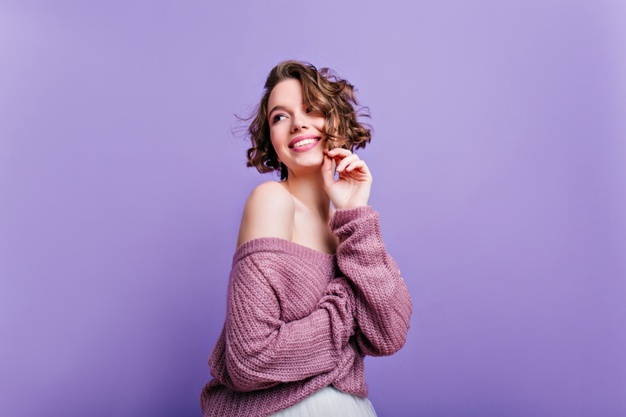Without Helmet: (245, 58, 375, 190)
